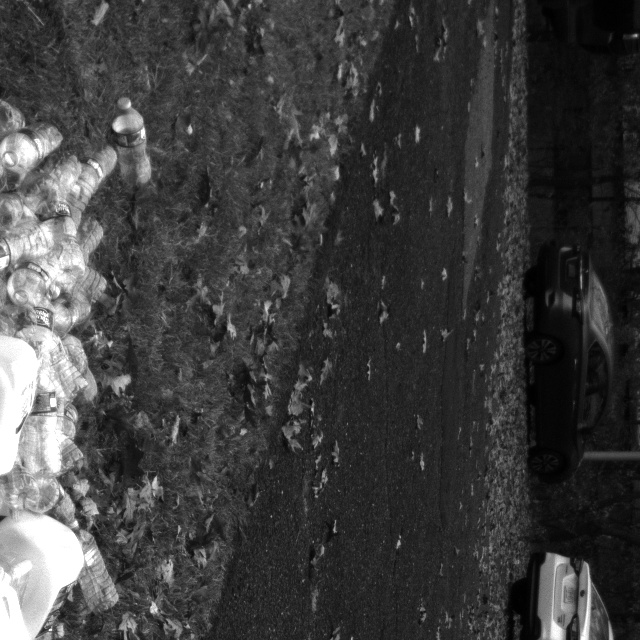bottle: (24, 371, 69, 478), (70, 524, 121, 618), (40, 193, 91, 280), (109, 97, 155, 188), (67, 141, 123, 212), (0, 120, 68, 174), (4, 244, 56, 310), (0, 223, 51, 276)
can: (0, 505, 89, 640)
